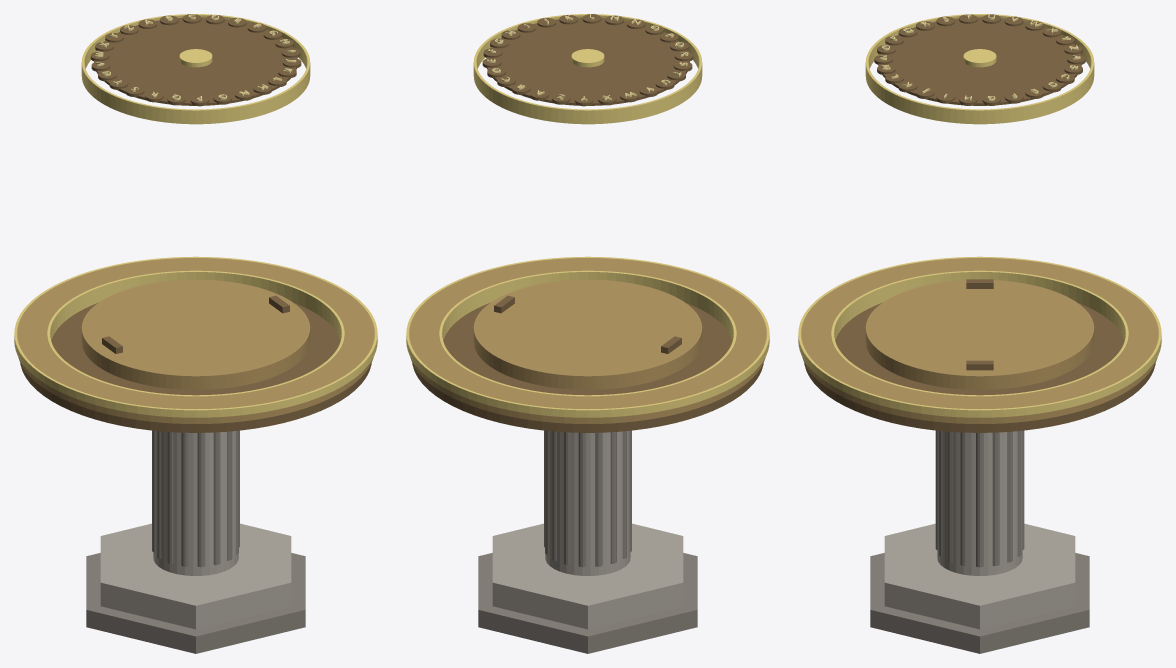
The model's file is CipherDisk.fbx.
3 views of the same model, side by side, from view 1: azimuth 30°, elevation 25°; view 2: azimuth 150°, elevation 25°; view 3: azimuth 270°, elevation 25° (orthographic).
Parts seen in each view (by area): view 1: InnerDisk, CD_OuterRing, CD_Base, ID_Face, CD_SeatPlate, CD_ColumnShaft, CD_Footing, ID_InnerBevel, CD_OuterEdge, CD_OuterBevel, CD_Flute11, CD_Flute10 (+5 smaller); view 2: InnerDisk, CD_OuterRing, CD_Base, ID_Face, CD_SeatPlate, CD_ColumnShaft, CD_Footing, ID_InnerBevel, CD_OuterEdge, CD_OuterBevel, CD_Flute5, CD_Flute6 (+5 smaller); view 3: InnerDisk, CD_OuterRing, CD_Base, ID_Face, CD_SeatPlate, CD_ColumnShaft, CD_Footing, ID_InnerBevel, CD_OuterEdge, CD_OuterBevel, CD_Flute0, CD_Flute1 (+6 smaller).
Part boxes in pixels (x1,y1,x2,y2): InnerDisk: (81, 279, 310, 389); CD_OuterRing: (17, 258, 374, 423); CD_Base: (100, 523, 291, 629); ID_Face: (94, 17, 297, 105); CD_SeatPlate: (20, 302, 371, 432); CD_ColumnShaft: (153, 431, 238, 575); CD_Footing: (86, 553, 305, 653); ID_InnerBevel: (81, 14, 310, 124); CD_OuterEdge: (47, 270, 344, 396); CD_OuterBevel: (14, 256, 377, 417); CD_Flute11: (197, 432, 205, 567); CD_Flute10: (181, 432, 188, 566); InnerDisk: (473, 279, 702, 389); CD_OuterRing: (409, 258, 766, 423); CD_Base: (492, 523, 683, 629); ID_Face: (486, 17, 689, 105); CD_SeatPlate: (412, 302, 763, 432); CD_ColumnShaft: (545, 431, 630, 575); CD_Footing: (478, 553, 697, 653); ID_InnerBevel: (473, 14, 702, 124); CD_OuterEdge: (439, 270, 736, 396); CD_OuterBevel: (406, 256, 769, 417); CD_Flute5: (578, 432, 586, 567); CD_Flute6: (595, 432, 602, 566); InnerDisk: (865, 280, 1094, 389); CD_OuterRing: (801, 258, 1158, 423); CD_Base: (884, 523, 1075, 629); ID_Face: (878, 17, 1081, 105); CD_SeatPlate: (804, 302, 1155, 432); CD_ColumnShaft: (937, 430, 1022, 575); CD_Footing: (870, 553, 1089, 653); ID_InnerBevel: (865, 14, 1094, 124); CD_OuterEdge: (831, 270, 1128, 396); CD_OuterBevel: (798, 256, 1161, 417); CD_Flute0: (976, 433, 983, 567); CD_Flute1: (992, 432, 999, 565).
Bounding box in the file's own units: 1.32 × 2.19 × 1.32.
